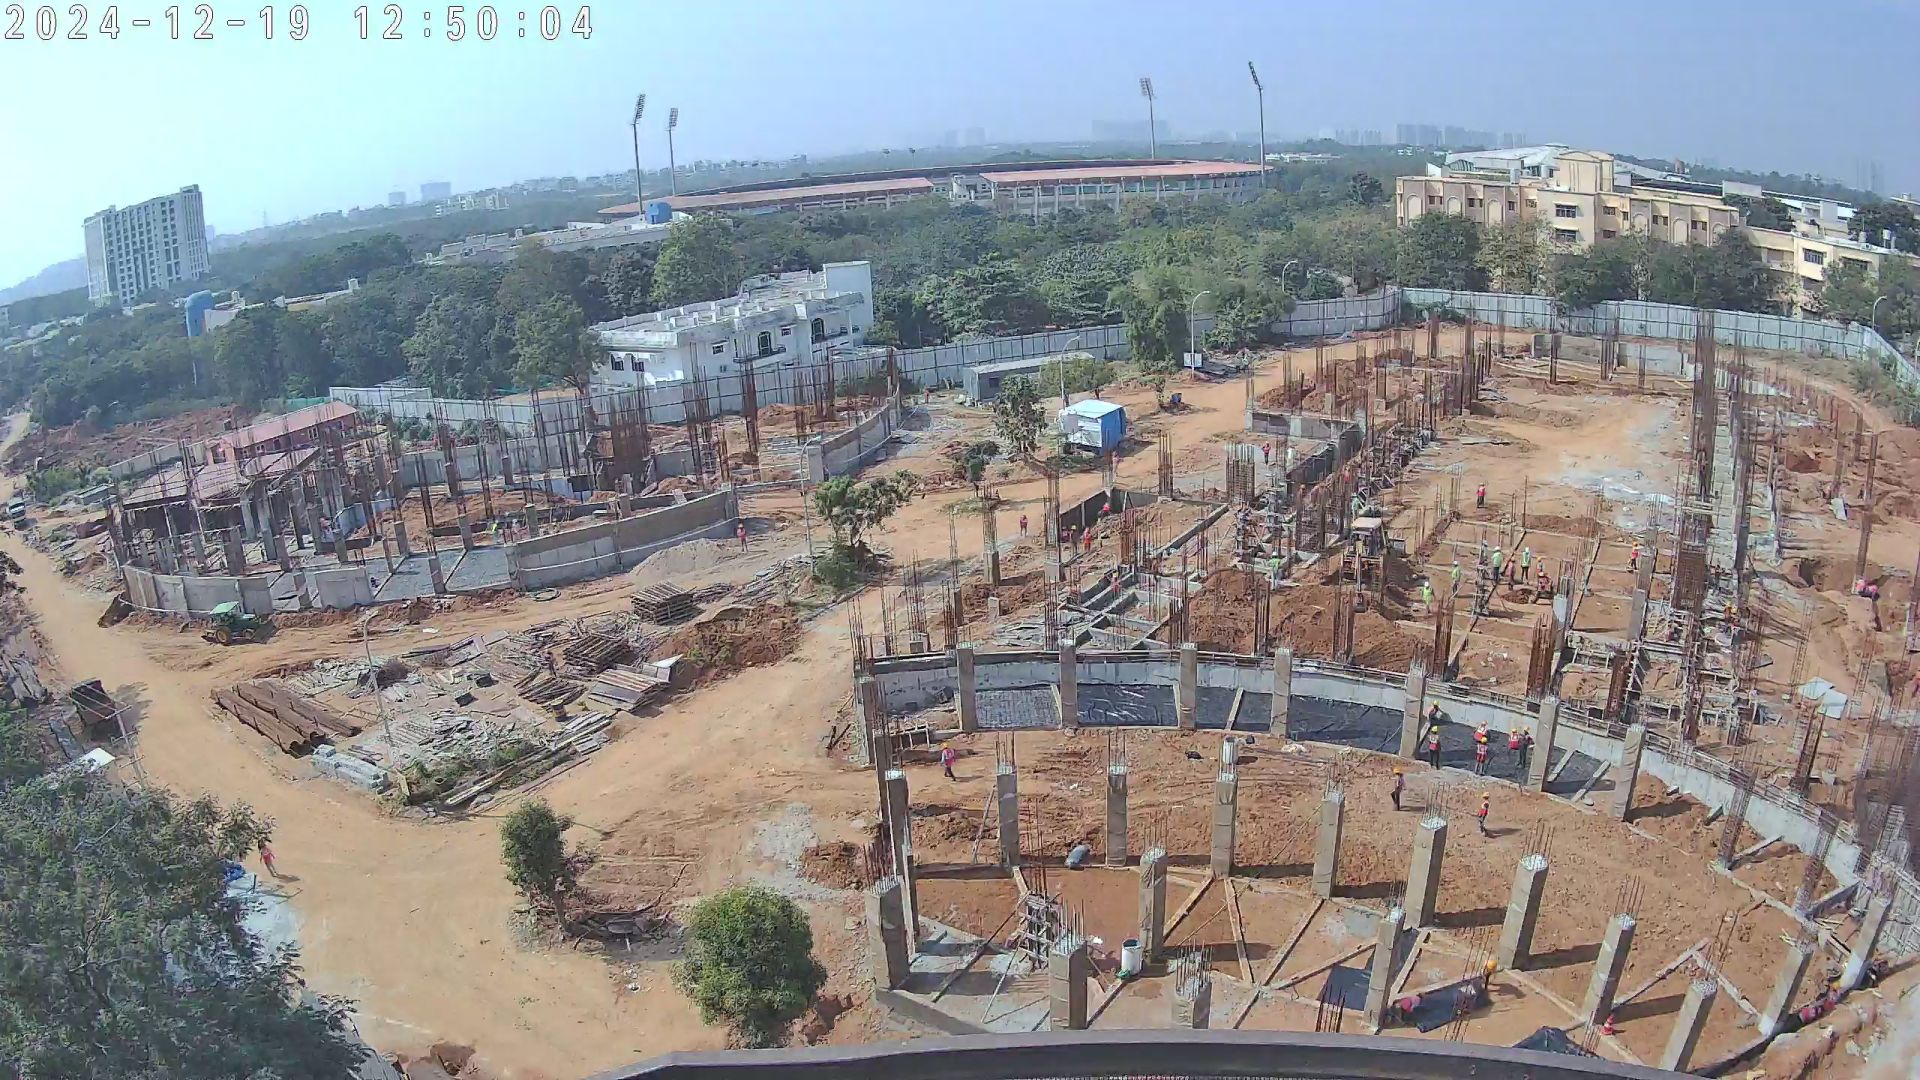bulldozer: (1325, 506, 1415, 620), (199, 600, 283, 649)
truck: (6, 494, 33, 534)
worker: (1529, 550, 1559, 603), (1384, 767, 1409, 813), (254, 835, 279, 881), (1473, 789, 1492, 843), (1424, 723, 1444, 771), (936, 741, 958, 783), (1446, 556, 1467, 600), (1513, 726, 1533, 772), (1471, 735, 1492, 774), (1620, 540, 1640, 580), (1515, 543, 1533, 587), (733, 522, 753, 560), (1420, 578, 1438, 620), (1014, 511, 1033, 547), (1503, 725, 1524, 757), (1470, 480, 1489, 514), (1423, 700, 1446, 728), (1266, 552, 1283, 589), (1502, 555, 1517, 596), (1066, 521, 1080, 564), (1470, 719, 1492, 745), (1490, 546, 1504, 586), (1106, 569, 1125, 598), (510, 515, 526, 543), (1080, 524, 1094, 555), (1259, 441, 1274, 469), (488, 515, 501, 547), (316, 518, 332, 541), (1728, 606, 1739, 637), (1721, 599, 1733, 627), (1341, 465, 1354, 490), (1297, 483, 1308, 507), (1100, 500, 1111, 521)
